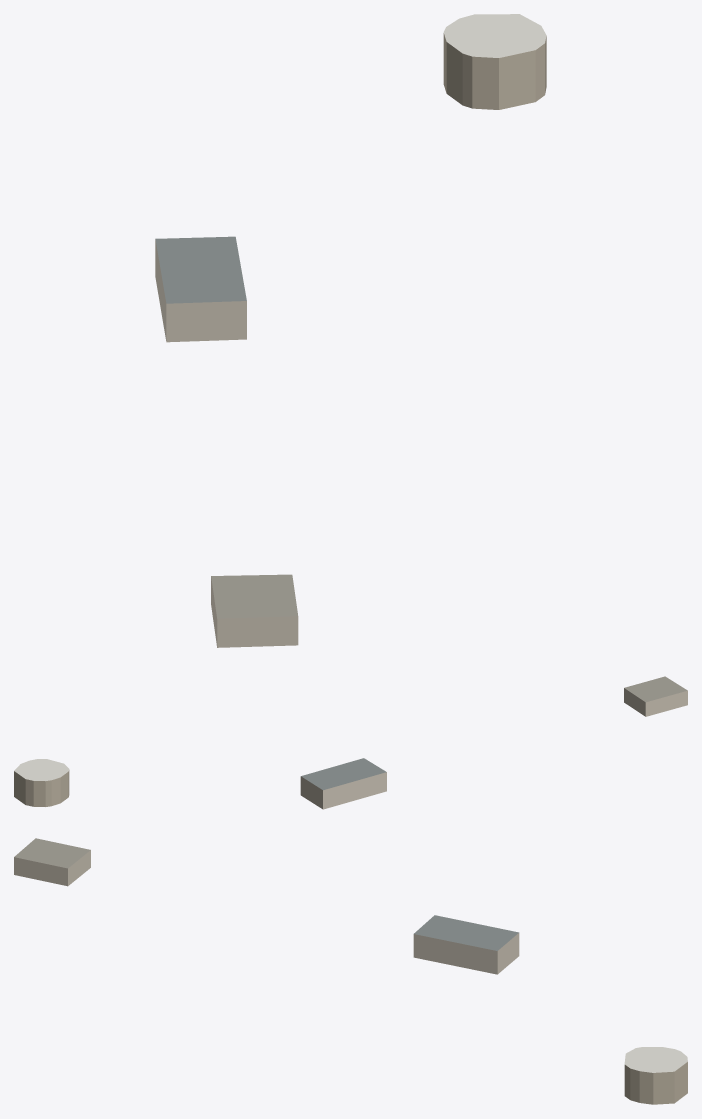
3 renders of one model, top to bottom at view 1: azimuth 30°, elevation 25°; view 2: azimuth 150°, elevation 25°; view 3: azimuth 270°, elevation 25°, orthographic. The views are drawn at different scales.
Visible parts, largest first — view 1: tuile; view 2: tuile; view 3: tuile.
Part boxes in pixels (box(x1,y1,x2,y2)): tuile: box(155, 14, 546, 647); tuile: box(14, 676, 687, 809); tuile: box(14, 838, 687, 1104).
Size of the model in its own units: 99.61 by 5.96 by 115.
